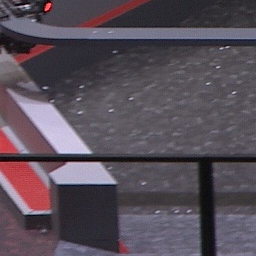Robot: (1, 1, 55, 54)
